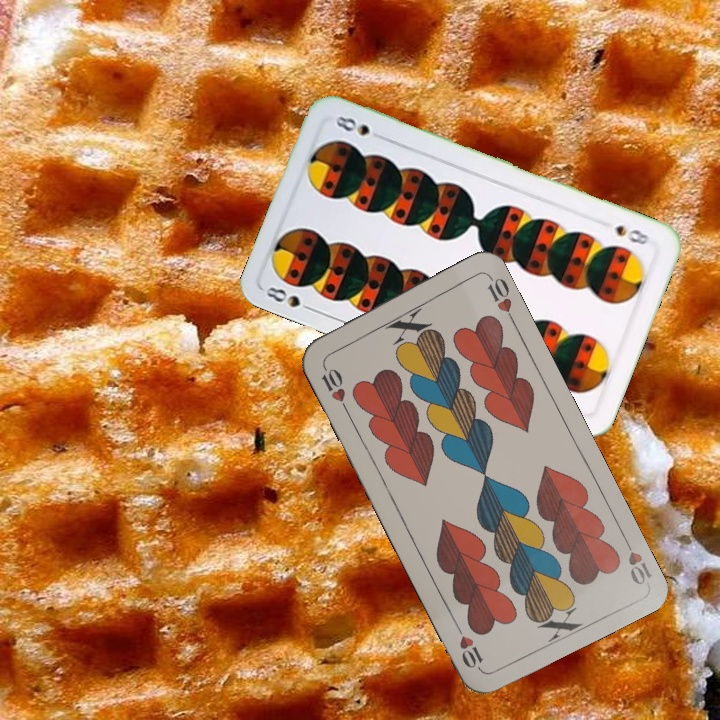H10: (618, 531, 655, 588), (317, 358, 351, 414)
S8: (262, 282, 318, 315), (611, 220, 652, 248)
